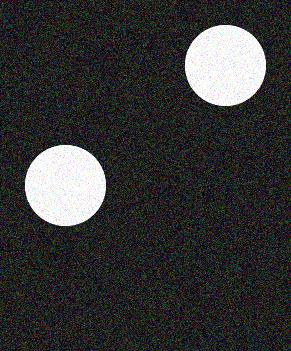I: (15, 14, 275, 336)
